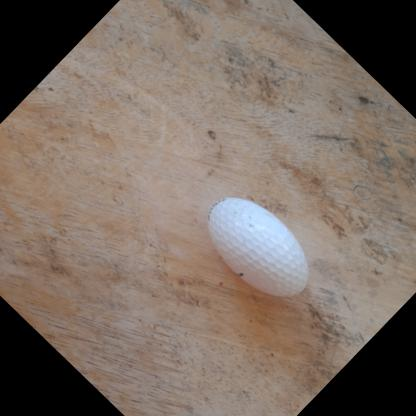Golf: (183, 176, 332, 322)
